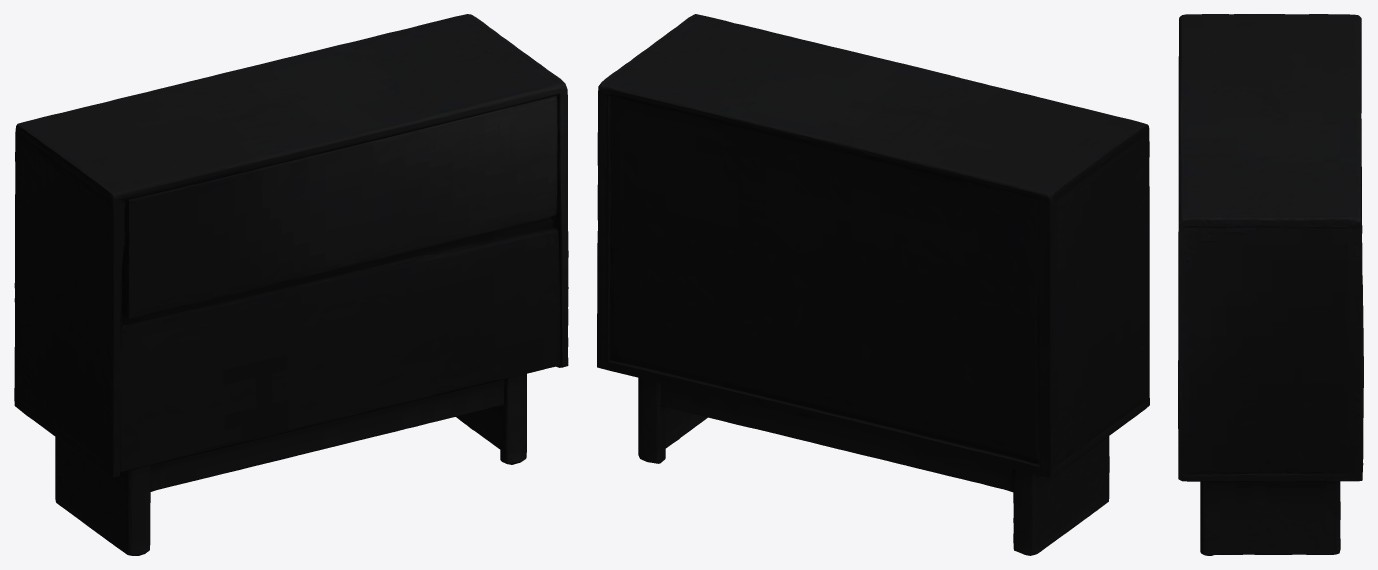
File: ast_200d07a11612.glb
3 views of the same model, side by side, from view 1: azimuth 30°, elevation 25°; view 2: azimuth 150°, elevation 25°; view 3: azimuth 270°, elevation 25° (orthographic). The views are drawn at different scales.
Visible parts, largest first — view 1: geometry_0; view 2: geometry_0; view 3: geometry_0.
Boxes of the visible parts, bbox=[...] form: geometry_0: bbox=[14, 14, 568, 555]; geometry_0: bbox=[597, 14, 1149, 555]; geometry_0: bbox=[1178, 14, 1363, 555].
Size of the model in its own units: 1 by 0.8001 by 0.3831.
1 material, 1 textured.
